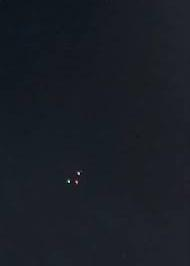Plane: (57, 161, 93, 194)
